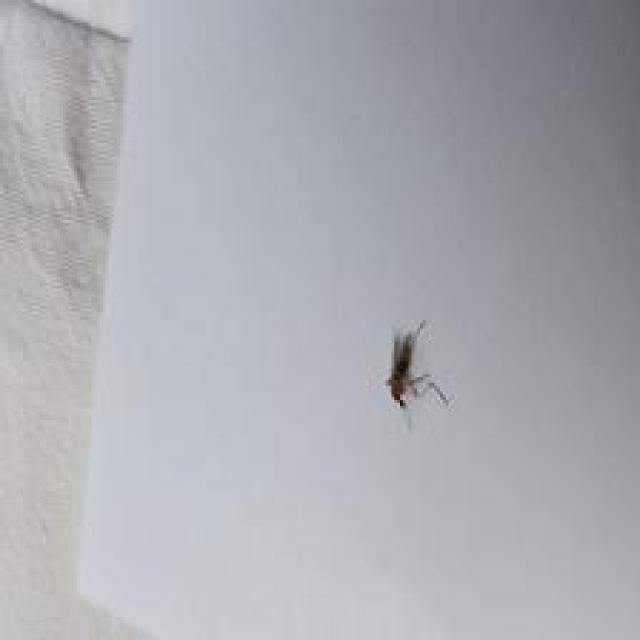Culex: (381, 319, 450, 430)
